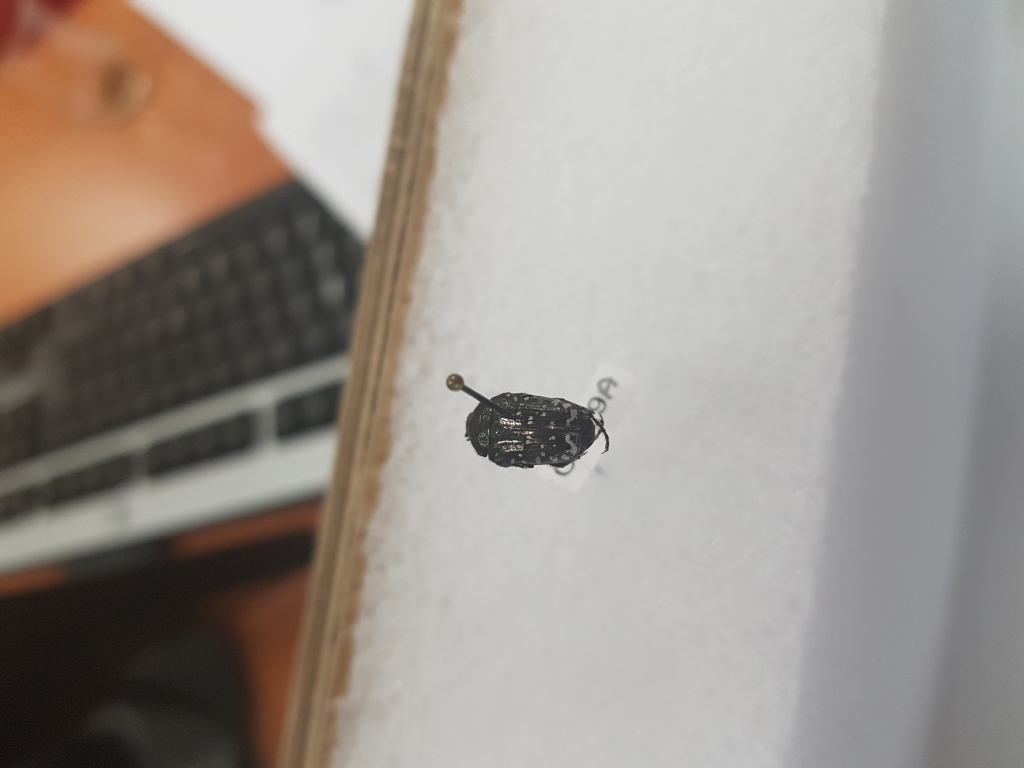Oxythyrea_funesta: (466, 387, 611, 480)
